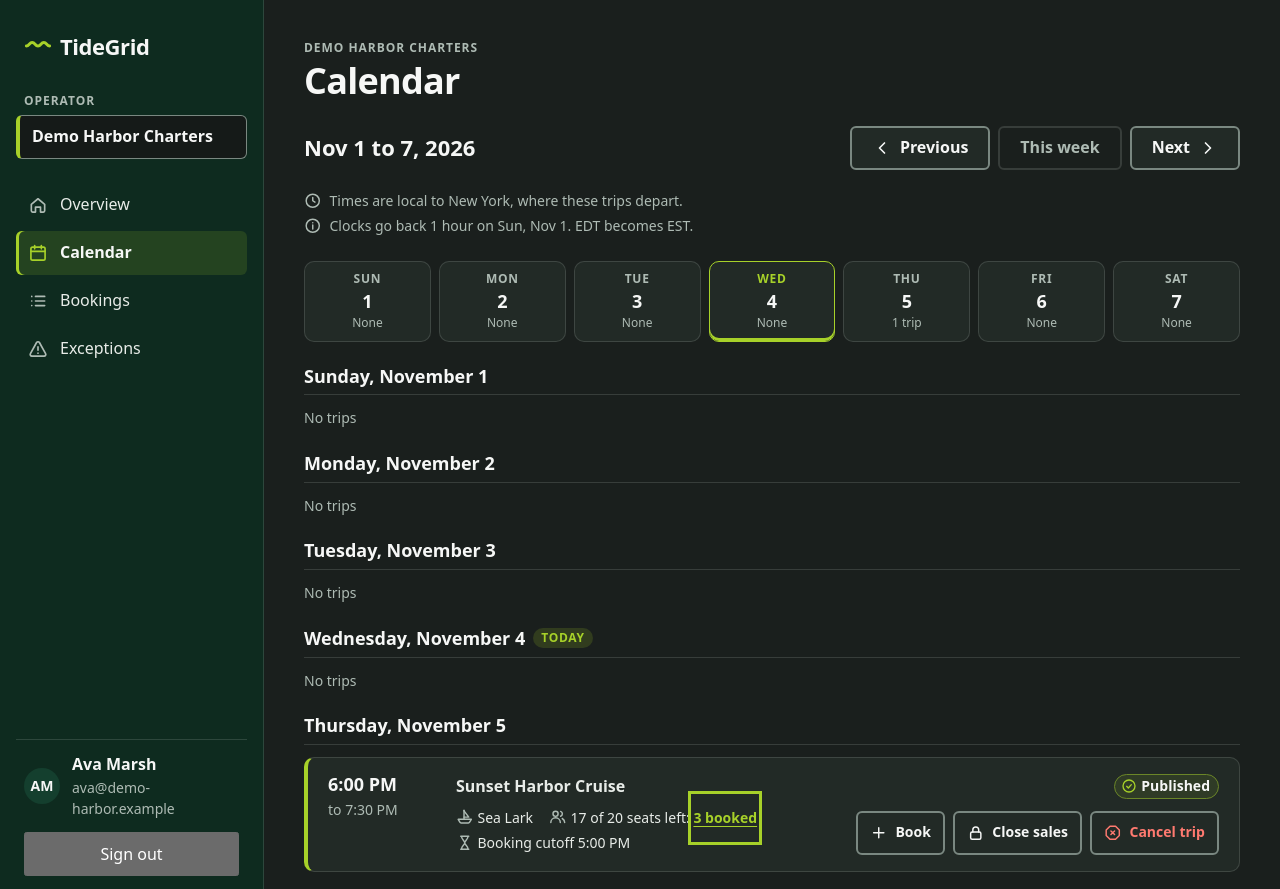
Test: following a link with a query string › opens the trip's bookings from the calendar's booked count, afresh, with the day and trip kept
Click the link named "3 booked: see the bookings for" at [725, 818], box [693,796,757,840]
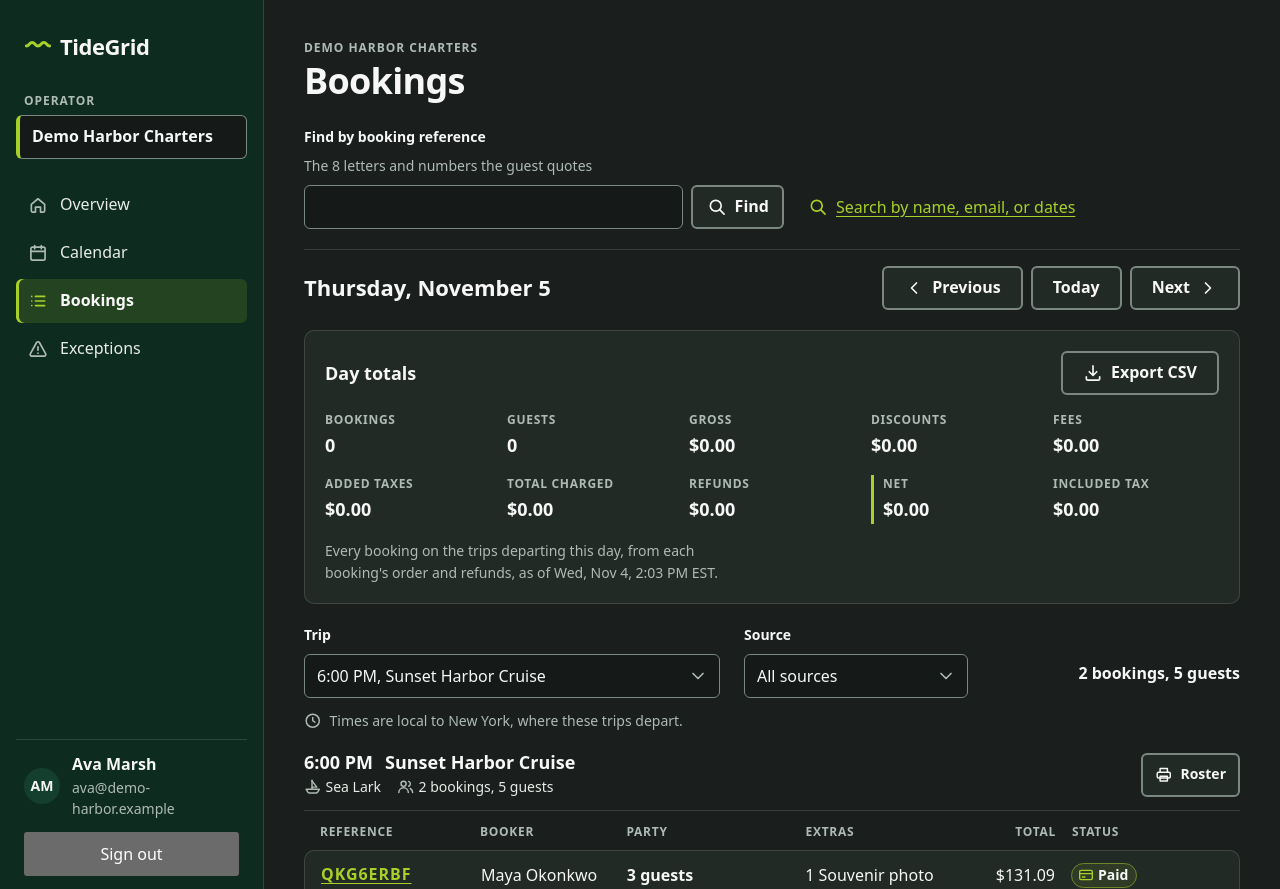
expect the heading "Thursday, November 5" is shown: met, box [304,275,551,301]
expect the dropdown labelled "Trip" shows "6:00 PM, Sunset Harbor Cruise": met, box [304,654,720,698]
